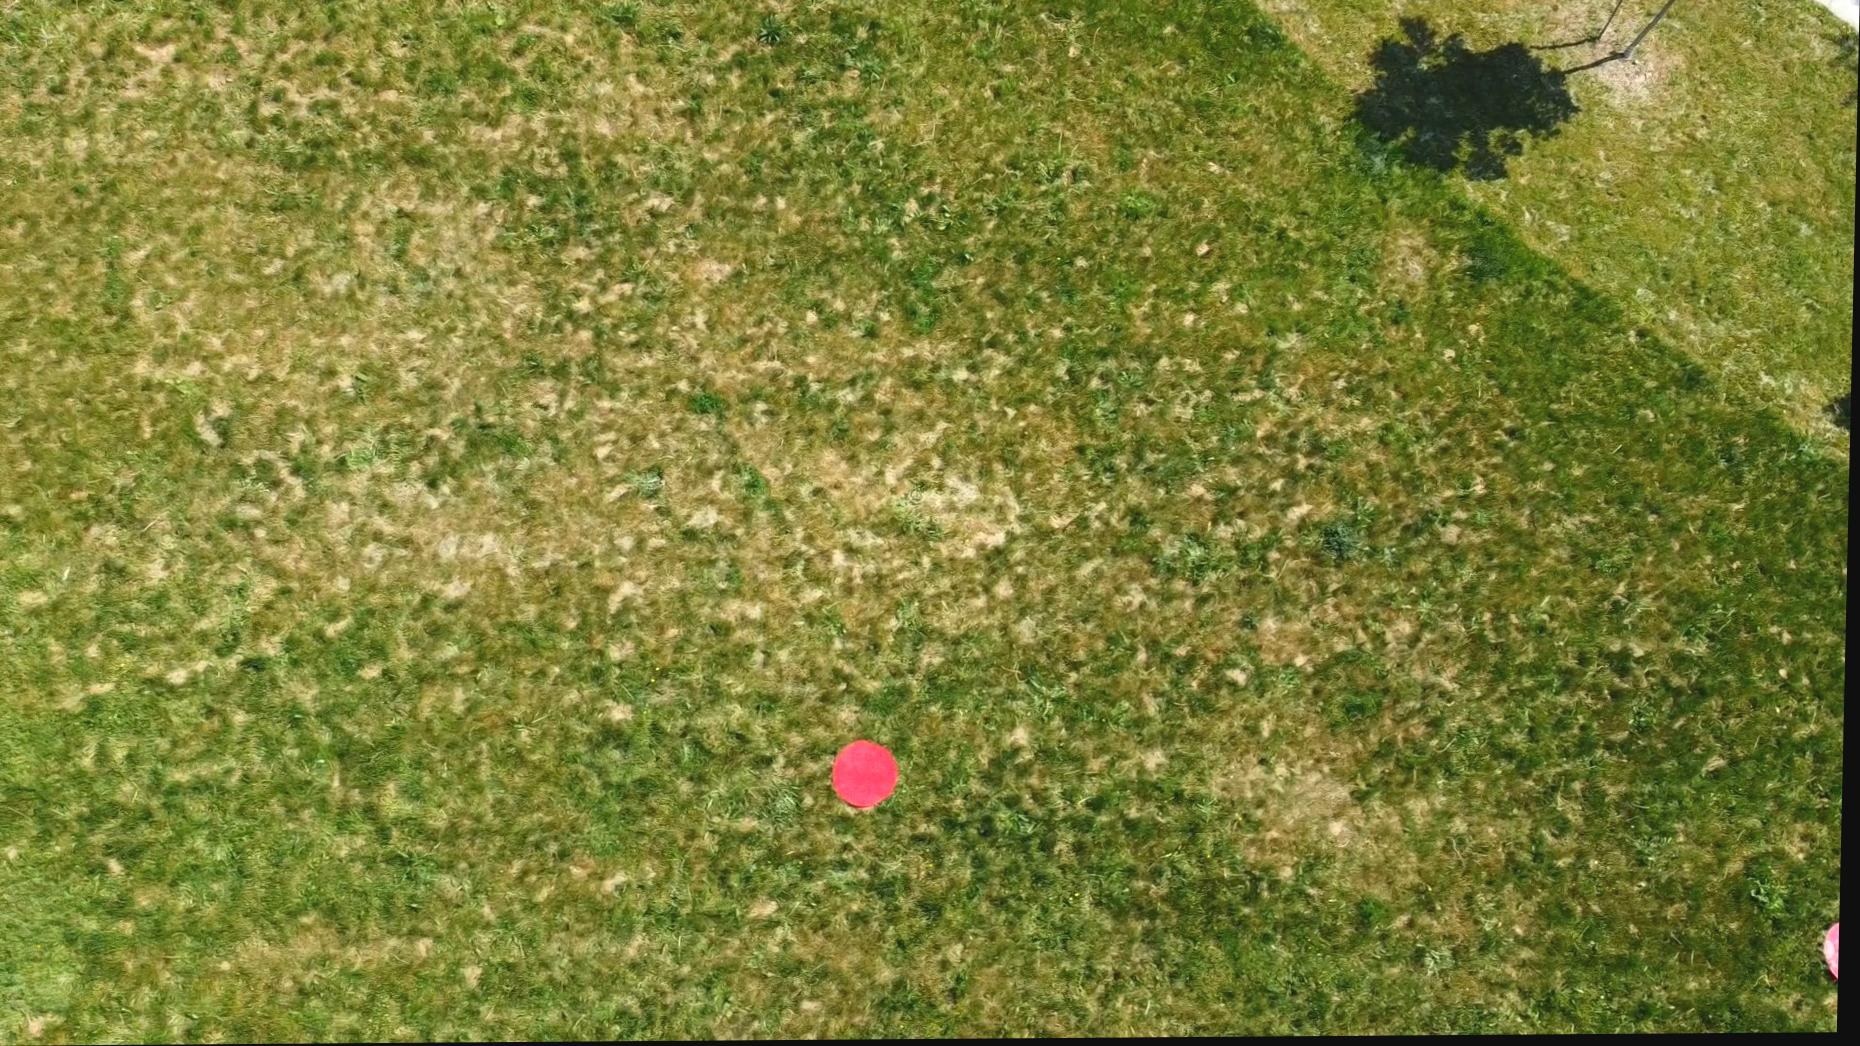Red: (832, 739, 907, 812), (1824, 920, 1843, 996)
